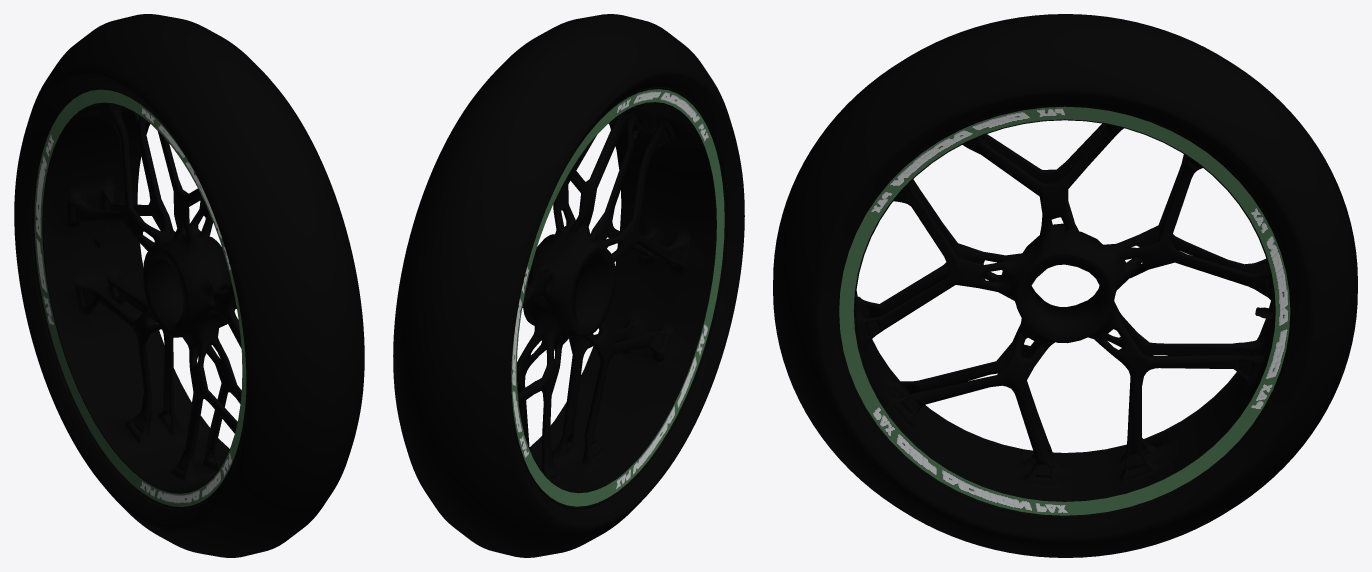
File: Ceat Tyre.glb
The picture shows the model from 3 angles, left to right: view 1: azimuth 30°, elevation 25°; view 2: azimuth 150°, elevation 25°; view 3: azimuth 270°, elevation 25°; orthographic projection. The views are drawn at different scales.
Parts seen in each view (by area): view 1: low poly tyre, alloy; view 2: low poly tyre, alloy; view 3: low poly tyre, alloy.
Part boxes in pixels (<box>): low poly tyre: <box>14,14,364,557</box>; alloy: <box>33,88,246,506</box>; low poly tyre: <box>393,14,744,557</box>; alloy: <box>511,88,724,507</box>; low poly tyre: <box>773,14,1357,557</box>; alloy: <box>839,105,1291,515</box>.
Size of the model in its own units: 0.1483 by 0.6027 by 0.6027.
3 materials, 1 textured.
